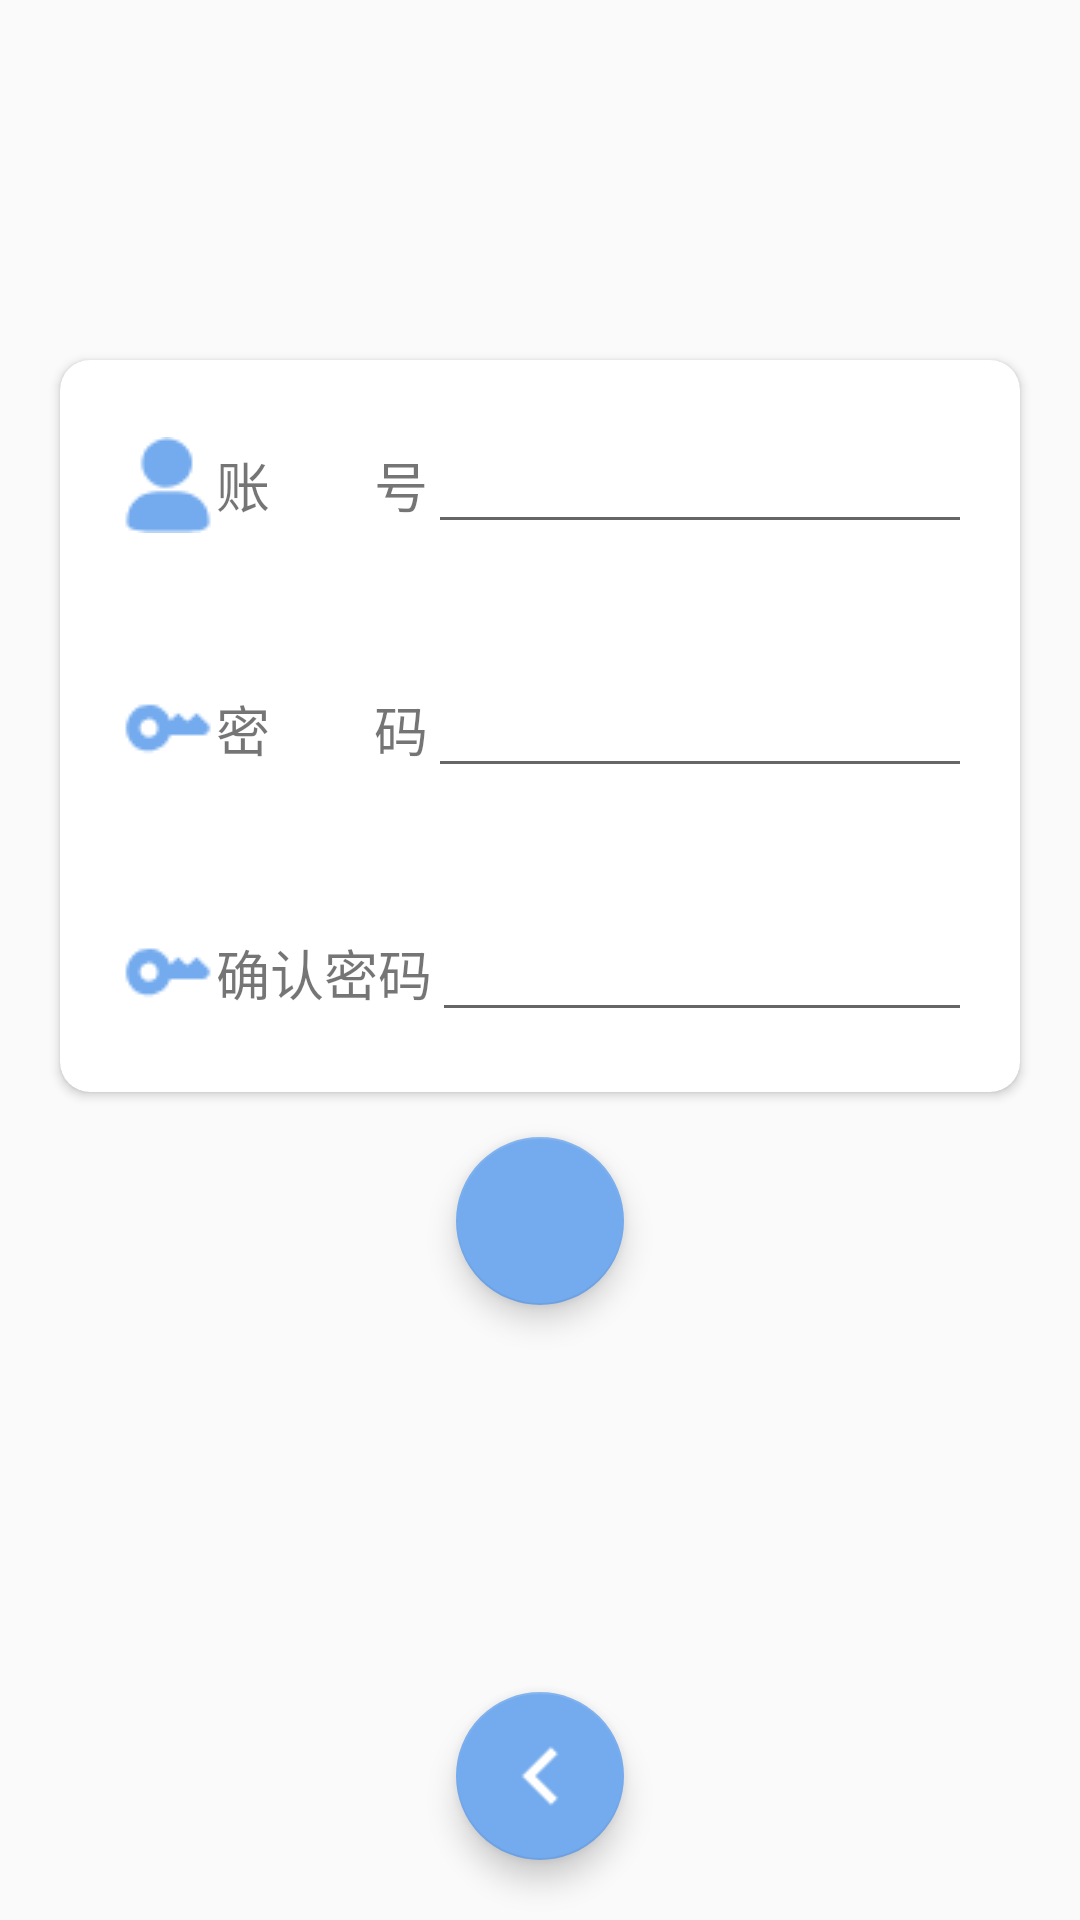

Screen size 1080 x 1920. Icon name, then its box in pixels as {"x1": x1, "y1": y1, "x2": x2, "y2": y2}:
back: {"x1": 456, "y1": 1692, "x2": 624, "y2": 1860}
